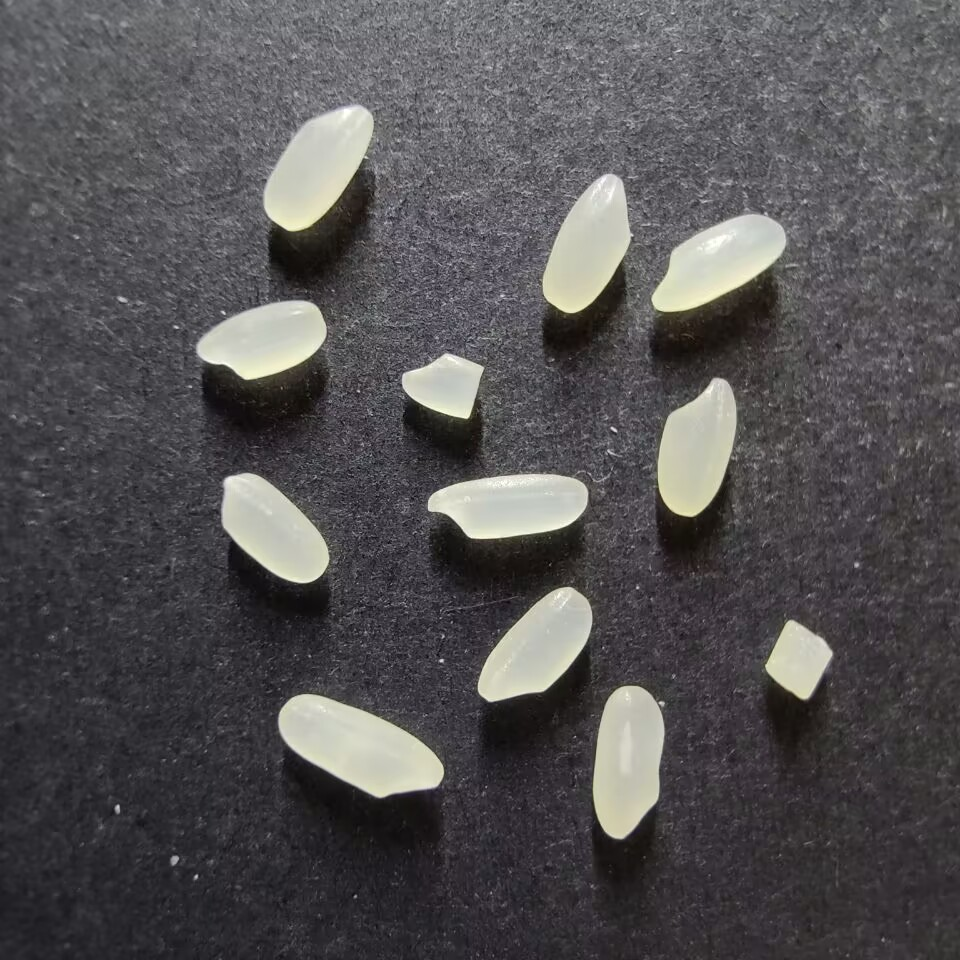broken: (764, 619, 833, 701), (401, 352, 484, 419)
rice: (277, 693, 444, 798), (262, 105, 373, 230), (650, 213, 786, 312), (477, 586, 592, 702), (541, 173, 632, 314), (219, 472, 330, 583), (591, 684, 664, 840), (656, 377, 736, 517), (195, 299, 327, 380), (427, 473, 588, 539)
